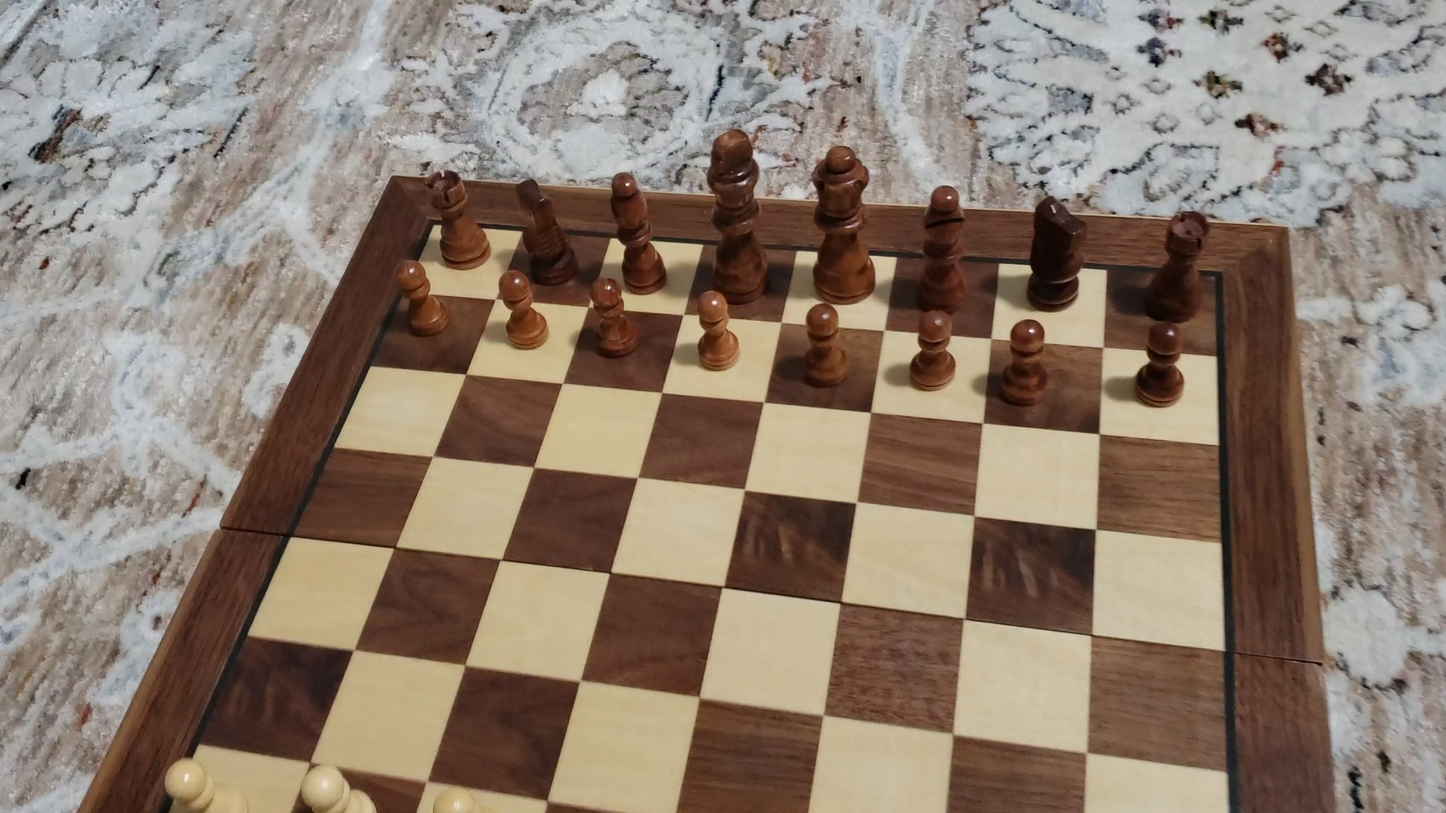black-bishop: (918, 181, 970, 314), (609, 169, 664, 293)
black-king: (701, 125, 771, 305)
black-knight: (1023, 193, 1087, 311), (514, 176, 577, 287)
black-pawn: (1131, 319, 1187, 410), (393, 257, 449, 339), (999, 317, 1049, 408), (496, 267, 549, 352), (908, 308, 958, 394), (587, 276, 638, 360), (801, 300, 848, 390), (693, 287, 741, 373)
black-queen: (805, 142, 878, 304)
black-rook: (1142, 208, 1210, 323), (425, 168, 489, 269)
